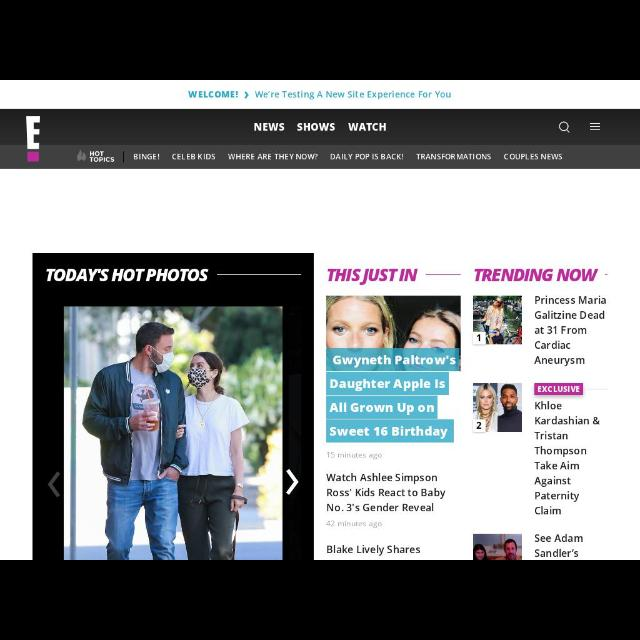icon: (47, 471, 61, 497), (286, 469, 298, 495), (558, 122, 570, 134), (589, 121, 601, 132), (76, 150, 86, 162)
image: (64, 305, 282, 559), (326, 296, 460, 440), (473, 296, 522, 346), (473, 383, 521, 431), (473, 534, 521, 558), (24, 115, 42, 163)
multitab: (1, 146, 639, 170)
text: (534, 402, 600, 516), (536, 294, 606, 368), (326, 474, 444, 514), (46, 268, 208, 282), (474, 267, 596, 285), (254, 90, 450, 100), (326, 268, 416, 284), (533, 533, 583, 559), (326, 546, 420, 554), (330, 154, 404, 162), (416, 152, 490, 160), (326, 520, 382, 530), (228, 154, 318, 160), (189, 90, 239, 100), (326, 452, 382, 460), (348, 121, 388, 132), (297, 122, 335, 132), (503, 154, 563, 160), (172, 152, 215, 160), (252, 123, 284, 133), (89, 150, 115, 162), (133, 154, 159, 160)
toolbar: (1, 109, 639, 147)
